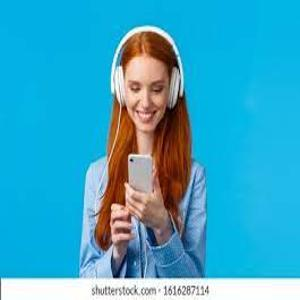Headphones: (108, 24, 186, 111)
